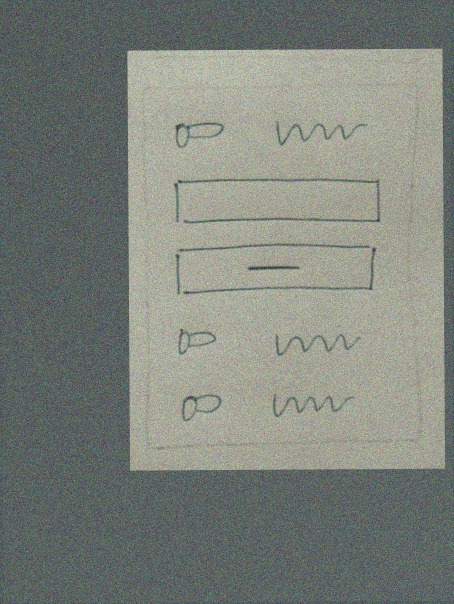button: (166, 240, 381, 301)
switch: (169, 325, 230, 360), (167, 117, 228, 151), (170, 391, 231, 425)
text: (267, 321, 368, 360), (269, 114, 370, 152), (266, 385, 367, 423)
text_input: (167, 174, 387, 234)
